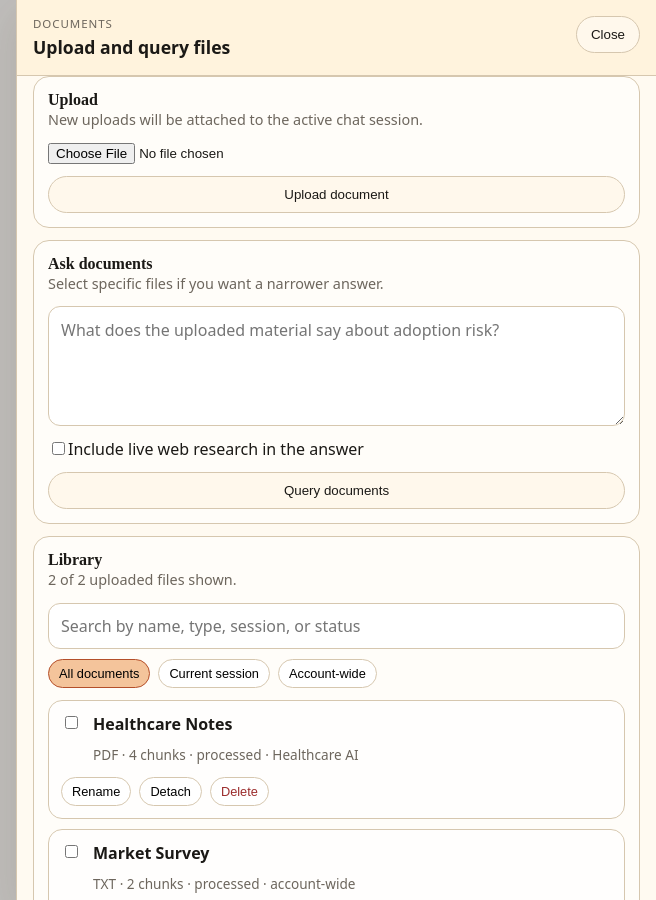
it: DocumentsDrawer › filters the library by search and scope
Expected: the text "Healthcare Notes" is shown, [93,713,232,735]
Expected: the text "Market Survey" is shown, [93,842,209,864]
In the search field with placeholder "Search by name, type, session, or status": {"x": 336, "y": 626} [48,603,625,649], type "market"
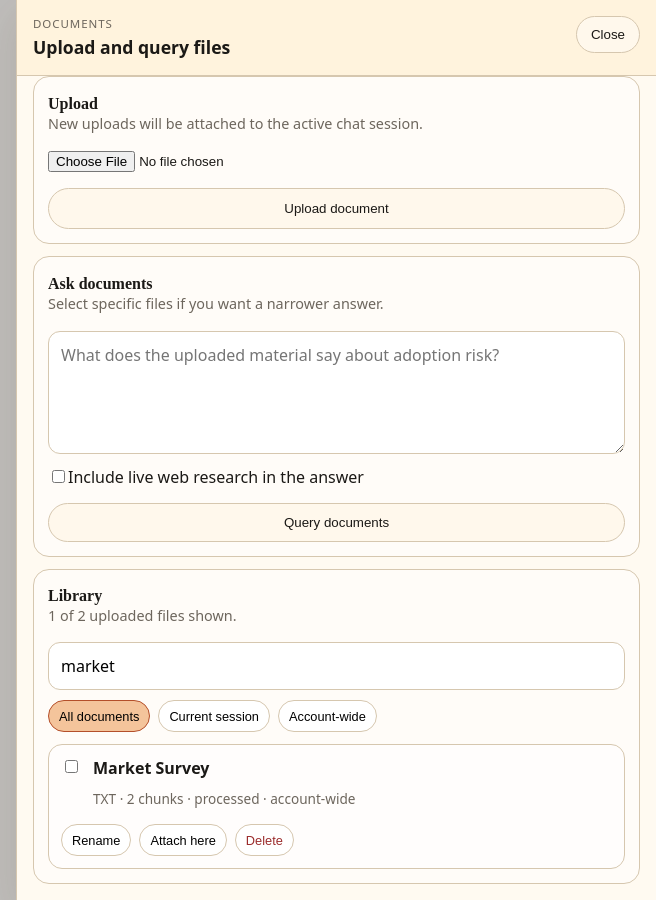
Expected: the text "Market Survey" is shown, [93,757,209,779]
Expected: the text "Healthcare Notes" is gone
Clear the search field with placeholder "Search by name, type, session, or status": {"x": 336, "y": 666} [48,642,625,690]
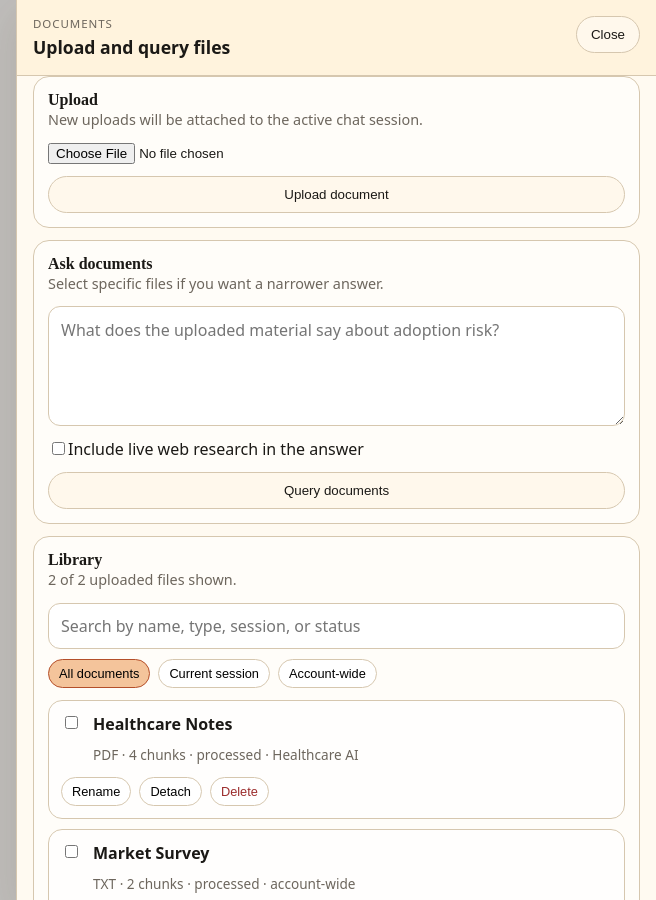
Click the button "Current session": {"x": 214, "y": 673} [158,659,270,688]
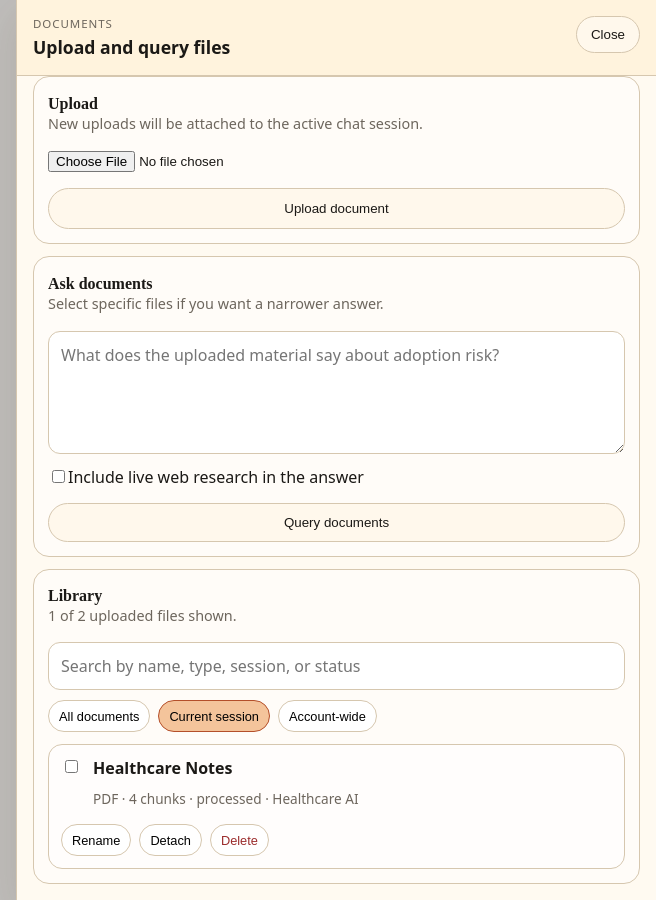
Expected: the text "Healthcare Notes" is shown, [93,757,232,779]
Expected: the text "Market Survey" is gone
